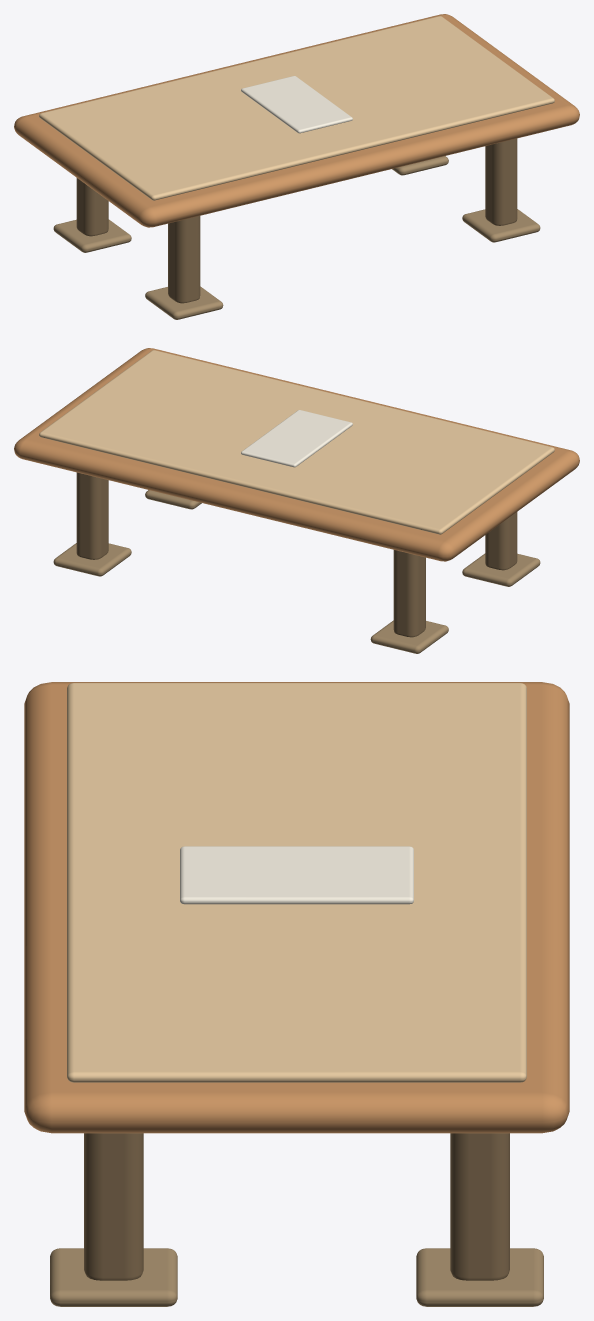
The model's file is meeting.glb.
3 views of the same model, one above another, from view 1: azimuth 30°, elevation 25°; view 2: azimuth 150°, elevation 25°; view 3: azimuth 270°, elevation 25° (orthographic). The views are drawn at different scales.
Parts seen in each view (by area): view 1: meeting-table; view 2: meeting-table; view 3: meeting-table.
Part boxes in pixels (x1,y1,x2,y2): meeting-table: (14, 14, 579, 319); meeting-table: (14, 348, 579, 653); meeting-table: (24, 682, 569, 1306).
Size of the model in its own units: 2.7 by 0.76 by 1.45.
